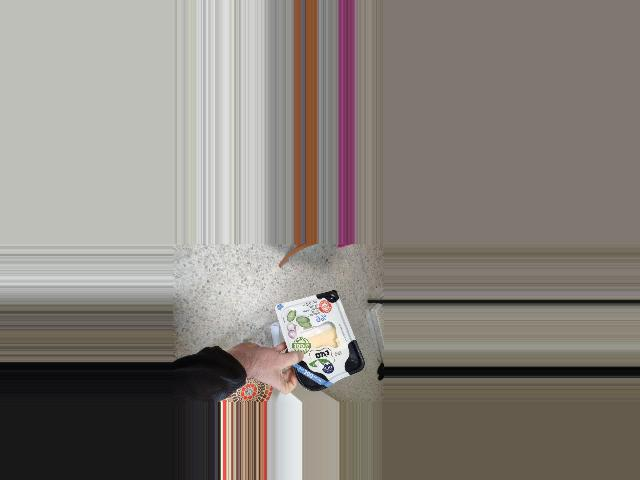cheese: (283, 291, 351, 387)
